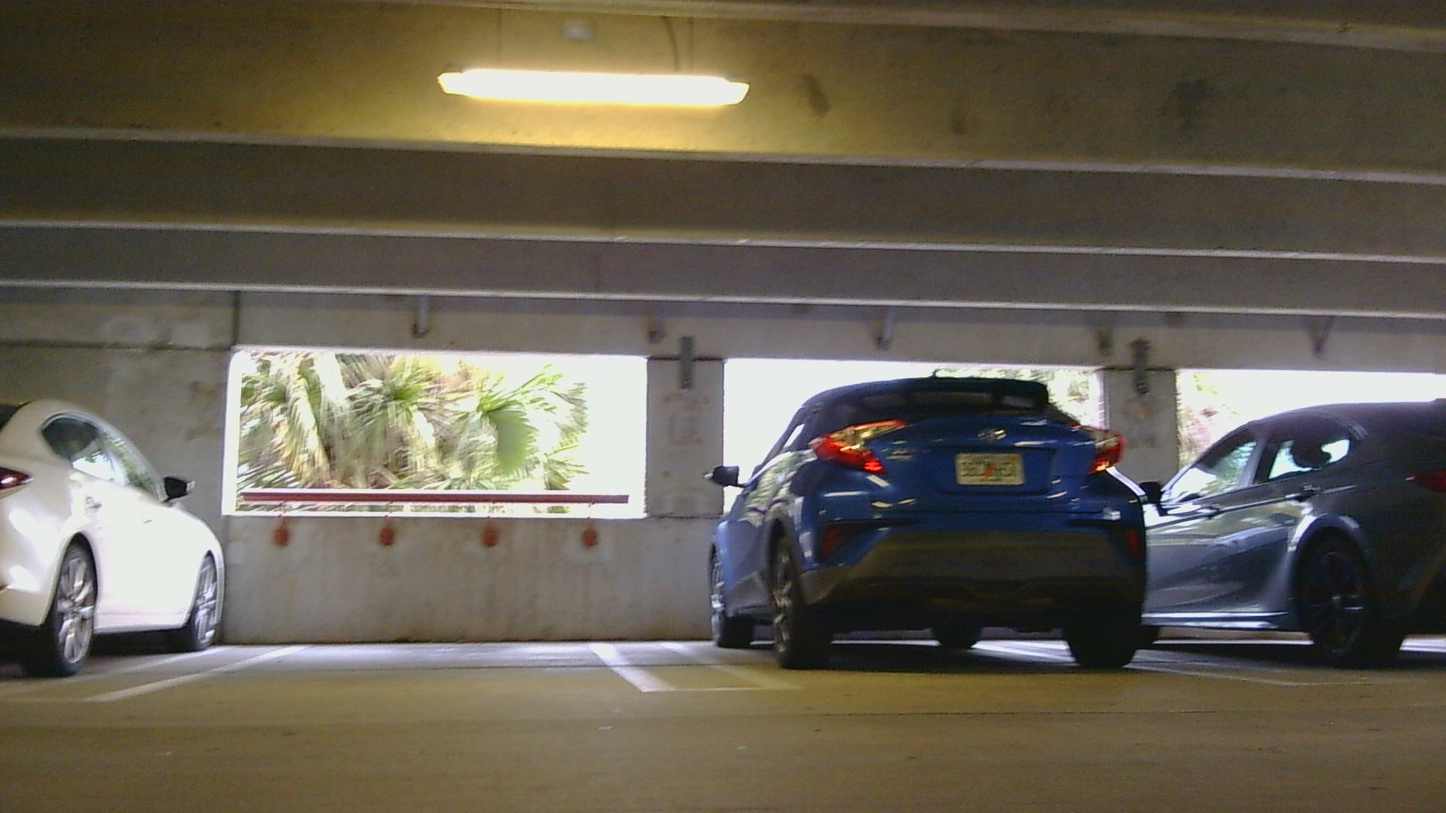empty_spot: (9, 557, 704, 708)
occupied_spot: (689, 371, 1167, 683), (1138, 390, 1446, 675), (0, 396, 241, 706)
